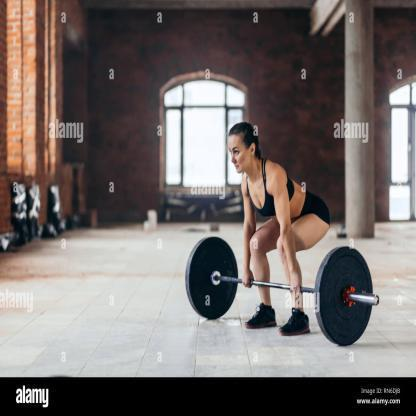Barbell: (370, 290, 386, 314)
